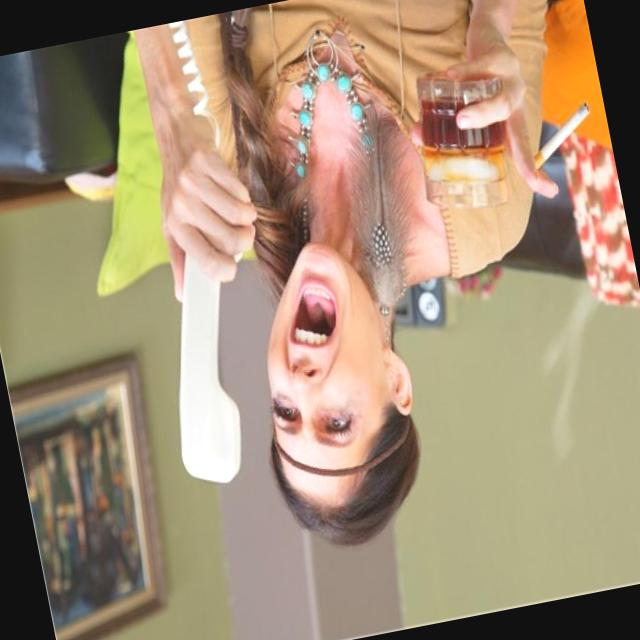smoke: (516, 99, 603, 184)
